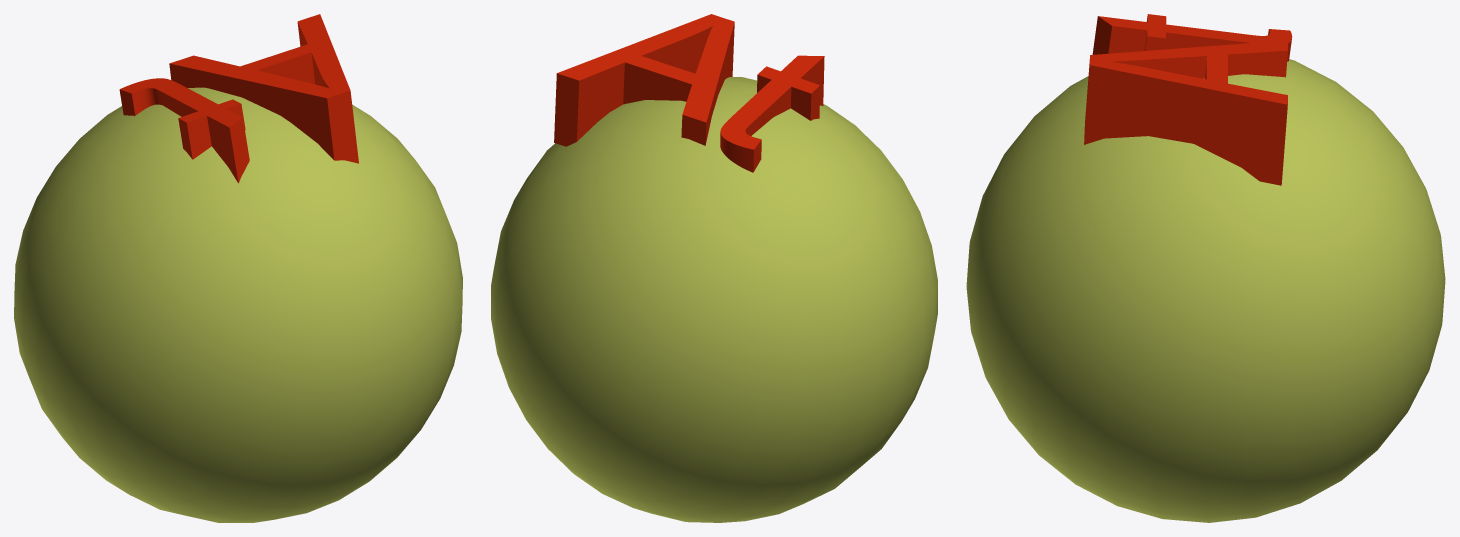
3 views of the same model, side by side, from view 1: azimuth 30°, elevation 25°; view 2: azimuth 150°, elevation 25°; view 3: azimuth 270°, elevation 25° (orthographic). The views are drawn at different scales.
Parts seen in each view (by area): view 1: Cl002, Object006, Object007; view 2: Cl002, Object006, Object007; view 3: Cl002, Object006, Object007.
Part boxes in pixels (x1,y1,x2,y2): Cl002: (14, 87, 462, 522); Object006: (169, 14, 358, 163); Object007: (119, 78, 249, 183); Cl002: (491, 77, 937, 522); Object006: (554, 14, 734, 146); Object007: (720, 55, 824, 172); Cl002: (966, 59, 1445, 522); Object006: (1084, 40, 1287, 185); Object007: (1092, 14, 1292, 61).
Bounding box in the file's own units: 38.6 × 41.42 × 38.7.
